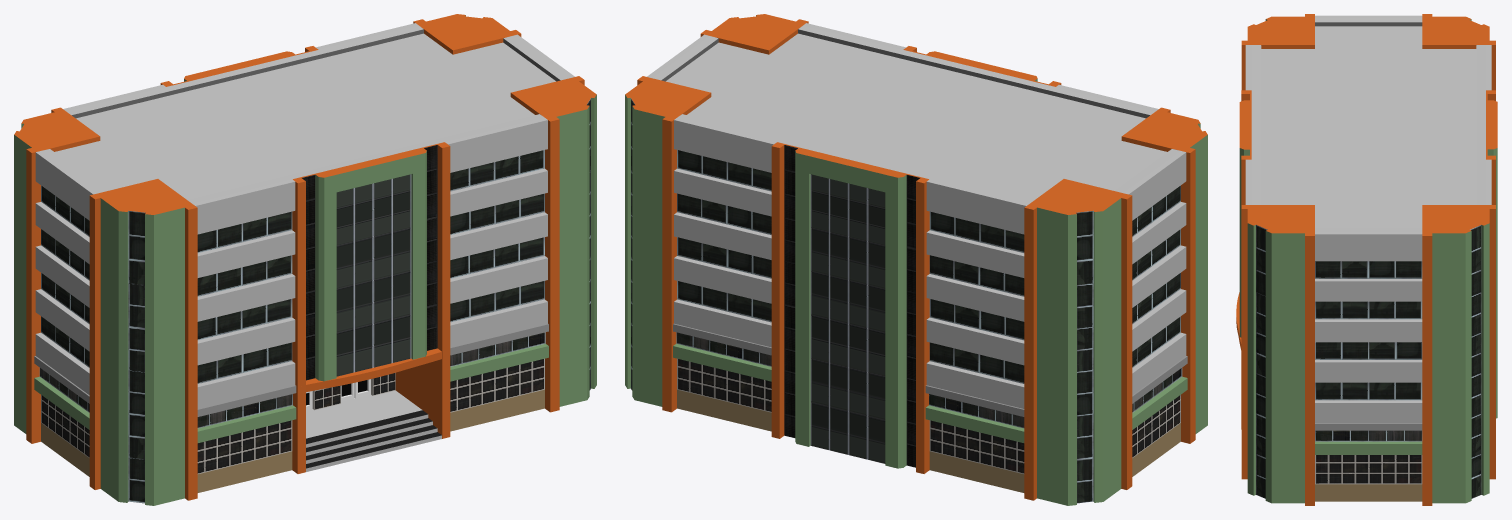
3 renders of one model, left to right at view 1: azimuth 30°, elevation 25°; view 2: azimuth 150°, elevation 25°; view 3: azimuth 270°, elevation 25°, orthographic. The views are drawn at different scales.
Parts seen in each view (by area): view 1: Building; view 2: Building; view 3: Building.
Part boxes in pixels (box(x1,y1,x2,y2)): Building: box(14, 14, 596, 505); Building: box(625, 14, 1207, 505); Building: box(1236, 14, 1497, 505).
Size of what is drawn, in the model's own units: 35.23 by 20 by 17.55.
